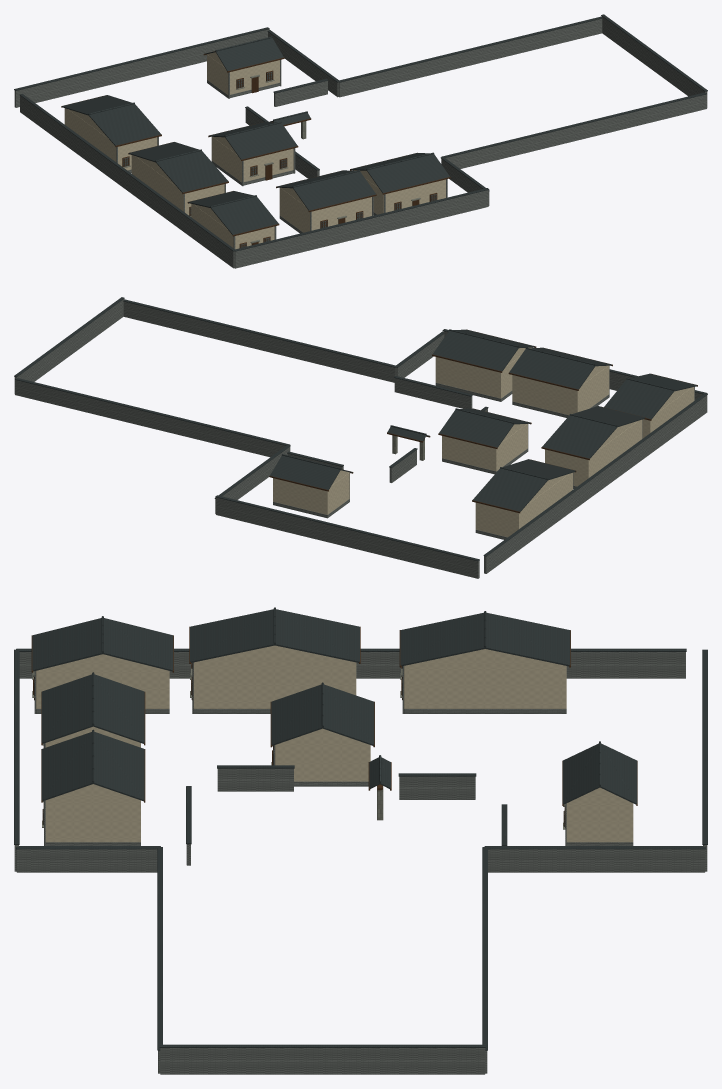
The model's file is street-buildings.glb.
3 renders of one model, top to bottom at view 1: azimuth 30°, elevation 25°; view 2: azimuth 150°, elevation 25°; view 3: azimuth 270°, elevation 25°, orthographic. The views are drawn at different scales.
Parts seen in each view (by area): view 1: SouthBoundary, ChurchNorthBoundary, ChurchSouthBoundary, NorthBoundary, WestBoundary, LaneHouse_B_Walls, LaneHouse_B_Roof_S, LaneHouse_F_Roof_S, LaneHouse_C_Roof_S, LaneHouse_E_Roof_S, EastBoundary, LaneHouse_D_Walls (+20 smaller); view 2: NorthBoundary, ChurchSouthBoundary, ChurchNorthBoundary, WestBoundary, LaneHouse_B_Walls, LaneHouse_E_Walls, LaneHouse_F_Walls, LaneHouse_D_Walls, LaneHouse_F_Roof_N, LaneHouse_B_Roof_N, LaneHouse_C_Walls, LaneHouse_C_Roof_N (+18 smaller); view 3: EastBoundary, LaneHouse_E_Walls, LaneHouse_C_Walls, NorthReturnBoundary, WestBoundary, LaneHouse_F_Walls, SouthReturnBoundary, LaneHouse_D_Walls, LaneHouse_E_Roof_N, LaneHouse_E_Roof_S, LaneHouse_C_Roof_N, LaneHouse_C_Roof_S (+27 smaller).
Part boxes in pixels (bbox=[...]): SouthBoundary: bbox=[234, 190, 488, 268]; ChurchNorthBoundary: bbox=[338, 19, 602, 97]; ChurchSouthBoundary: bbox=[445, 94, 706, 168]; NorthBoundary: bbox=[14, 29, 269, 107]; WestBoundary: bbox=[20, 95, 234, 268]; LaneHouse_B_Walls: bbox=[279, 188, 371, 232]; LaneHouse_B_Roof_S: bbox=[293, 171, 375, 210]; LaneHouse_F_Roof_S: bbox=[366, 154, 449, 193]; LaneHouse_C_Roof_S: bbox=[155, 150, 228, 192]; LaneHouse_E_Roof_S: bbox=[88, 104, 161, 145]; EastBoundary: bbox=[601, 16, 707, 107]; LaneHouse_D_Walls: bbox=[211, 136, 293, 182]; NorthBoundary: bbox=[216, 497, 479, 578]; ChurchSouthBoundary: bbox=[123, 301, 396, 382]; ChurchNorthBoundary: bbox=[15, 380, 285, 457]; WestBoundary: bbox=[484, 395, 707, 573]; LaneHouse_B_Walls: bbox=[512, 365, 609, 415]; LaneHouse_E_Walls: bbox=[475, 472, 572, 537]; LaneHouse_F_Walls: bbox=[435, 347, 532, 398]; LaneHouse_D_Walls: bbox=[442, 424, 527, 471]; LaneHouse_F_Roof_N: bbox=[432, 330, 518, 371]; LaneHouse_B_Roof_N: bbox=[509, 349, 595, 389]; LaneHouse_C_Walls: bbox=[545, 419, 642, 486]; LaneHouse_C_Roof_N: bbox=[542, 415, 617, 458]; EastBoundary: bbox=[160, 1048, 485, 1074]; LaneHouse_E_Walls: bbox=[404, 664, 566, 708]; LaneHouse_C_Walls: bbox=[193, 661, 356, 708]; NorthReturnBoundary: bbox=[488, 849, 705, 872]; WestBoundary: bbox=[19, 652, 685, 678]; LaneHouse_F_Walls: bbox=[45, 799, 140, 842]; SouthReturnBoundary: bbox=[16, 849, 157, 872]; LaneHouse_D_Walls: bbox=[275, 744, 370, 781]; LaneHouse_E_Roof_N: bbox=[485, 612, 570, 666]; LaneHouse_E_Roof_S: bbox=[400, 612, 485, 666]; LaneHouse_C_Roof_N: bbox=[275, 609, 359, 662]; LaneHouse_C_Roof_S: bbox=[190, 609, 274, 662].
Bounding box in the file's own units: 98.57 × 8.43 × 72.59.
6 materials, 5 textured.
